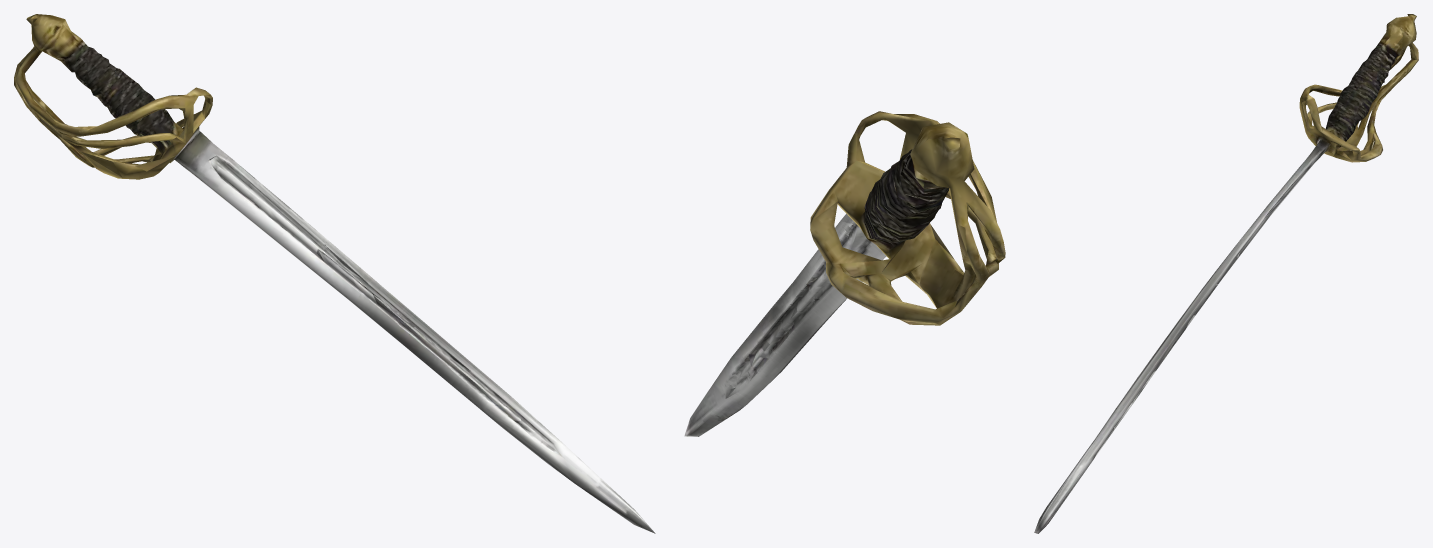
Rendered from ebf0edf9-d446-4fa7-a0a7-d1db4e6123ed.glb.
3 views of the same model, side by side, from view 1: azimuth 30°, elevation 25°; view 2: azimuth 150°, elevation 25°; view 3: azimuth 270°, elevation 25° (orthographic). The views are drawn at different scales.
Parts seen in each view (by area): view 1: Mesh_0; view 2: Mesh_0; view 3: Mesh_0.
Boxes of the visible parts, left/top/right/bottom form: Mesh_0: left=14, top=14, right=655, bottom=533; Mesh_0: left=684, top=111, right=1005, bottom=436; Mesh_0: left=1034, top=14, right=1418, bottom=533.
Size of the model in its own units: 0.9719 by 0.9954 by 0.9538.
Materials: 1 (1 with a texture image).
